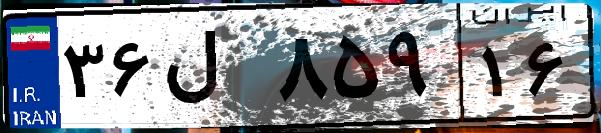1: (475, 38, 525, 113)
3: (57, 26, 110, 100)
5: (330, 28, 385, 110)
6: (525, 38, 570, 115), (110, 28, 158, 98)
8: (270, 28, 330, 110)
9: (385, 28, 445, 110)
ل: (158, 20, 270, 120)
